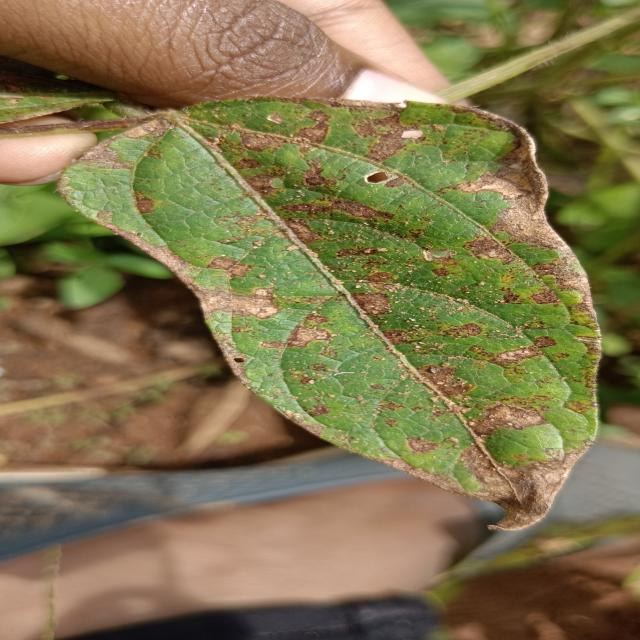Black gram_leaf spot: (59, 96, 607, 519)
